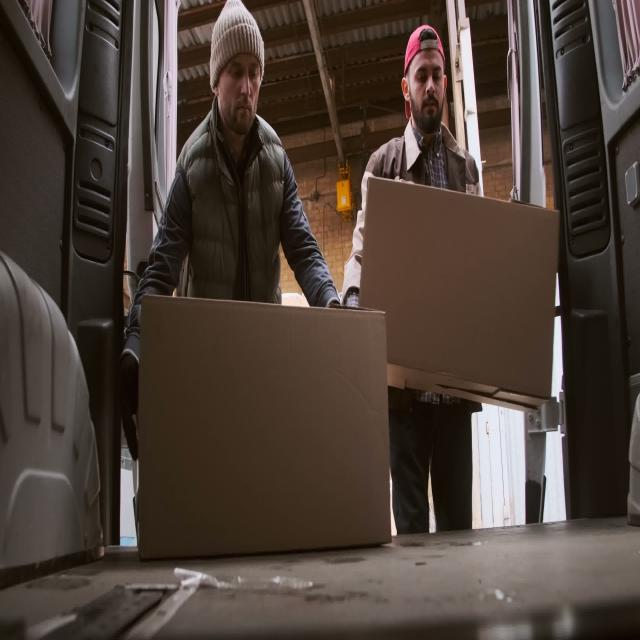counting-the-number-of-boxes: (140, 297, 392, 558), (359, 175, 561, 418)
